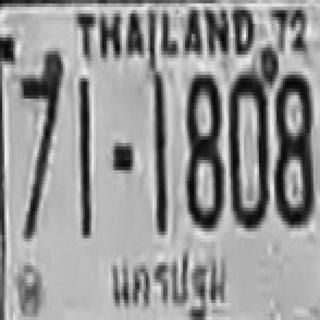N00: (229, 70, 268, 226)
N01: (78, 75, 89, 235)
N07: (20, 51, 61, 235)
N08: (272, 70, 311, 223), (185, 73, 222, 226)
P28: (106, 245, 228, 320)
